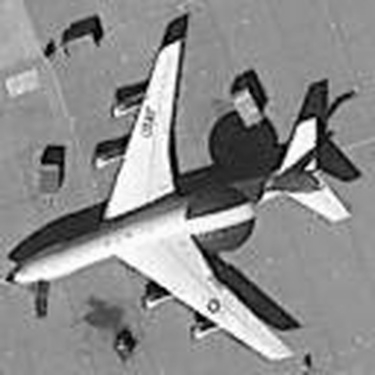airplane: (7, 28, 358, 372)
